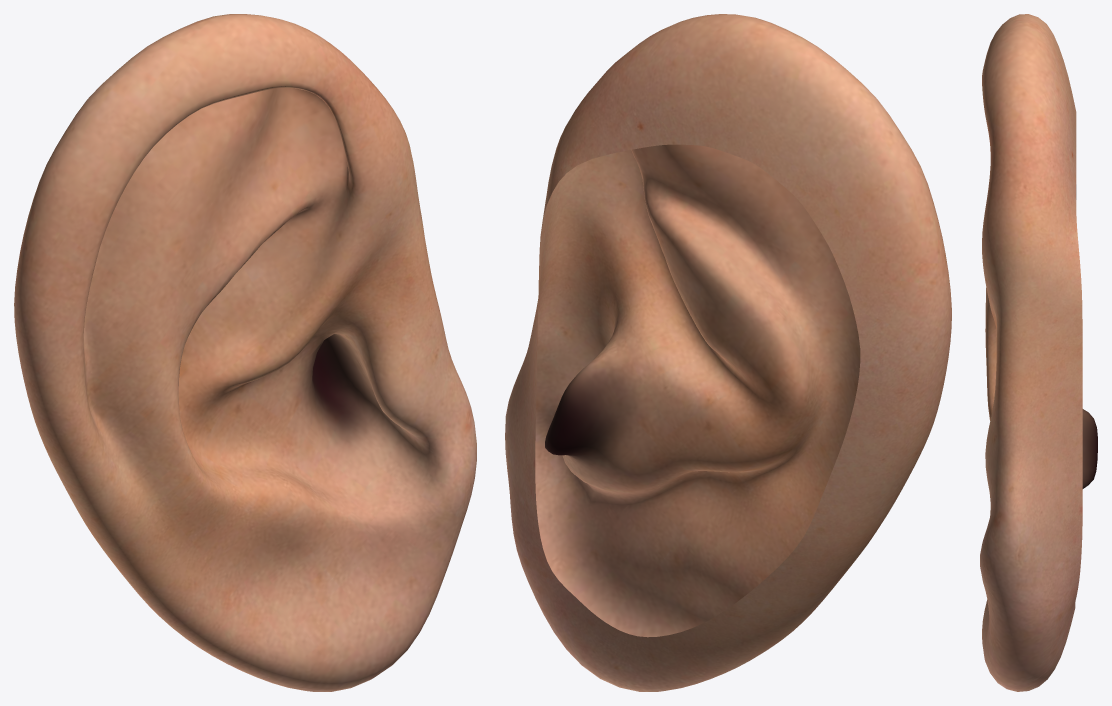
3 renders of one model, left to right at view 1: azimuth 30°, elevation 25°; view 2: azimuth 150°, elevation 25°; view 3: azimuth 270°, elevation 25°, orthographic. The views are drawn at different scales.
Visible parts, largest first — view 1: earnewmeshh_2; view 2: earnewmeshh_2; view 3: earnewmeshh_2.
Part boxes in pixels (bbox=[...]): earnewmeshh_2: bbox=[14, 14, 476, 691]; earnewmeshh_2: bbox=[505, 14, 951, 691]; earnewmeshh_2: bbox=[980, 14, 1097, 691].
Bounding box in the file's own units: 2.53 × 3.75 × 0.6622.
Materials: 1 (1 with a texture image).
